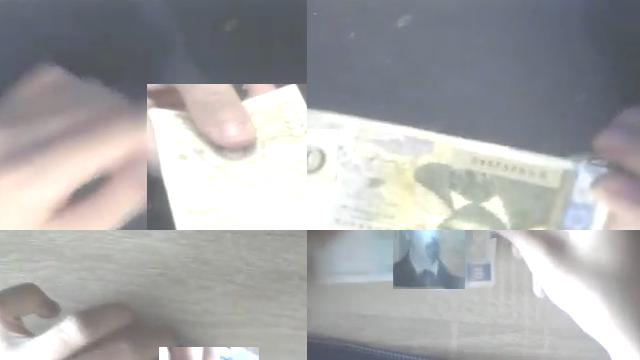10leva: (147, 84, 307, 230), (414, 160, 559, 230), (307, 130, 337, 179)
20leva: (393, 230, 465, 289)
